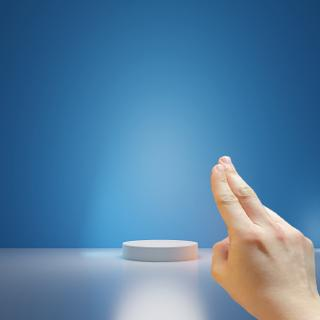DHAVE: (198, 151, 320, 320)
